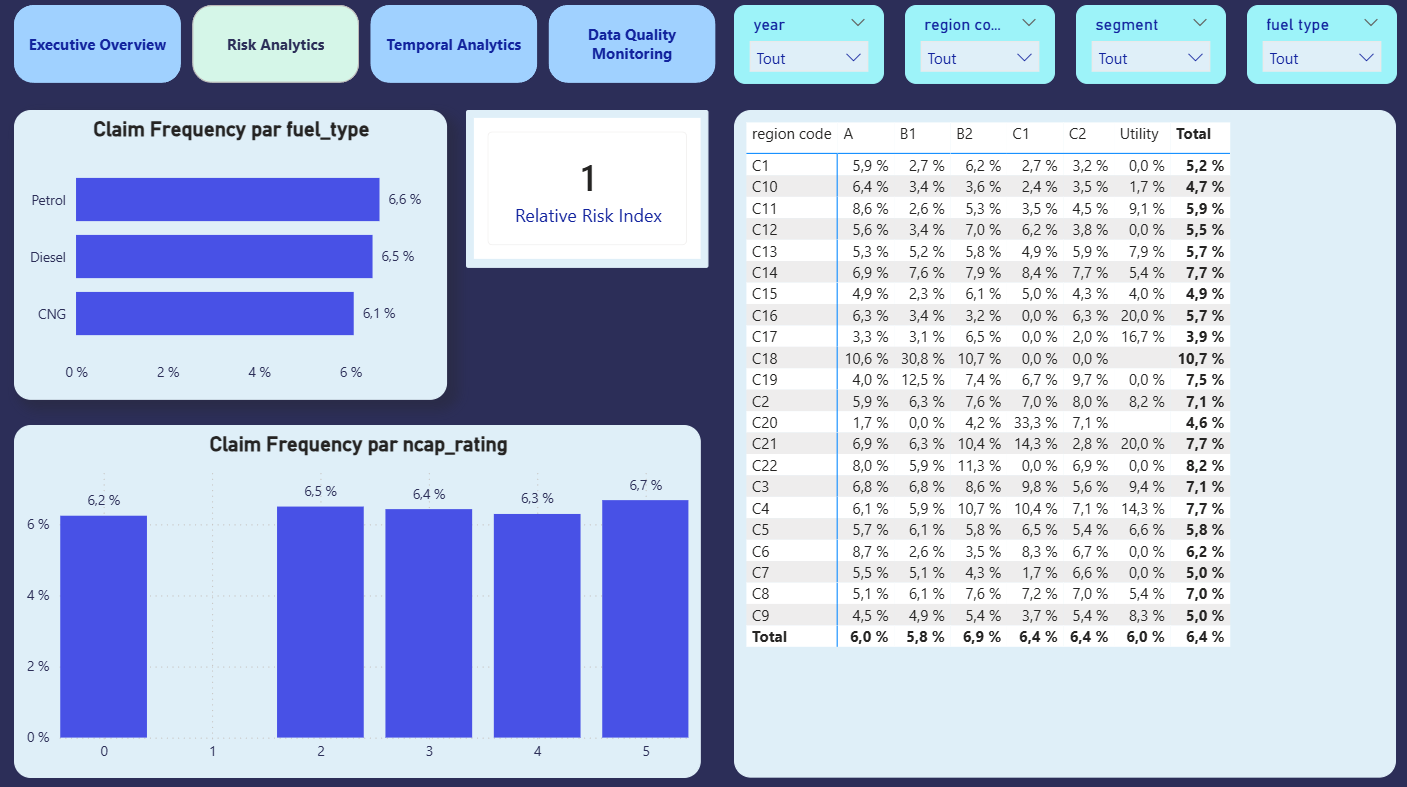

What the dashboard file says about the page in this screenshot:
{"tool":"powerbi","page":{"name":"Risk Analytics","canvas":[1280,720],"ordinal":1},"visuals":[{"type":"clusteredBarChart","fields":{"Category":["wh_dim_fuel.fuel_type"],"Y":["_Mesures.Claim Frequency"]},"box":[31,103.7,383.7,256.8],"z":0},{"type":"pivotTable","fields":{"Rows":["wh_dim_region.region_code"],"Columns":["wh_dim_segment.segment"],"Values":["_Mesures.Claim Frequency"]},"box":[669.6,103.7,587.2,592],"z":1000},{"type":"clusteredColumnChart","fields":{"Category":["wh_dim_ncap.ncap_rating"],"Y":["_Mesures.Claim Frequency"]},"box":[31,382.7,609.5,313],"z":2000},{"type":"slicer","fields":{"Values":["wh_dim_date.year"]},"box":[669.6,10.7,132.7,69.8],"z":3000},{"type":"slicer","fields":{"Values":["wh_dim_region.region_code"]},"box":[821,10.7,132.7,69.8],"z":4000},{"type":"slicer","fields":{"Values":["wh_dim_segment.segment"]},"box":[972.5,10.7,132.7,69.8],"z":5000},{"type":"slicer","fields":{"Values":["wh_dim_fuel.fuel_type"]},"box":[1124,10.7,132.7,69.8],"z":6000},{"type":"pageNavigator","box":[31,10.7,624,69.8],"z":7000},{"type":"cardVisual","title":"Data Quality Compliance","fields":{"Data":["_Mesures.Relative Risk Index"]},"box":[432.2,103.7,215.1,139.5],"z":8000}]}

Visuals, with their boxes in screenshot pixels (x1, y1, x2, y2), scaled from the page's 1280x720 canvas onto the 1407x787 screenshot:
clusteredBarChart - wh_dim_fuel.fuel_type x _Mesures.Claim Frequency: [x1=34, y1=113, x2=456, y2=394]
pivotTable - wh_dim_region.region_code x wh_dim_segment.segment: [x1=736, y1=113, x2=1381, y2=760]
clusteredColumnChart - wh_dim_ncap.ncap_rating x _Mesures.Claim Frequency: [x1=34, y1=418, x2=704, y2=760]
slicer - wh_dim_date.year: [x1=736, y1=12, x2=882, y2=88]
slicer - wh_dim_region.region_code: [x1=902, y1=12, x2=1048, y2=88]
slicer - wh_dim_segment.segment: [x1=1069, y1=12, x2=1215, y2=88]
slicer - wh_dim_fuel.fuel_type: [x1=1236, y1=12, x2=1381, y2=88]
pageNavigator: [x1=34, y1=12, x2=720, y2=88]
"Data Quality Compliance" cardVisual: [x1=475, y1=113, x2=712, y2=266]
